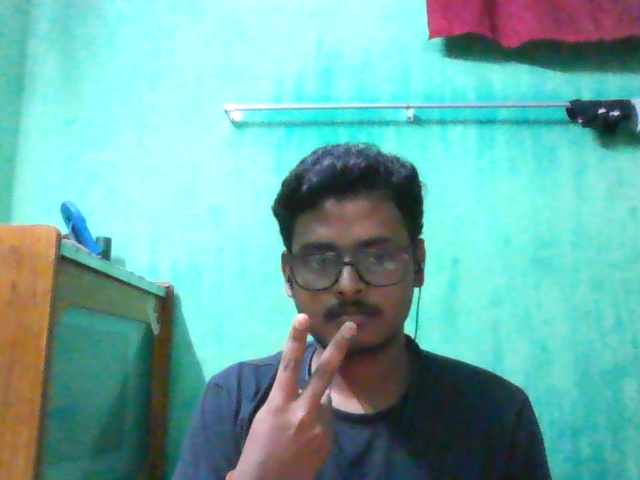LiveLong: (214, 311, 359, 480)
